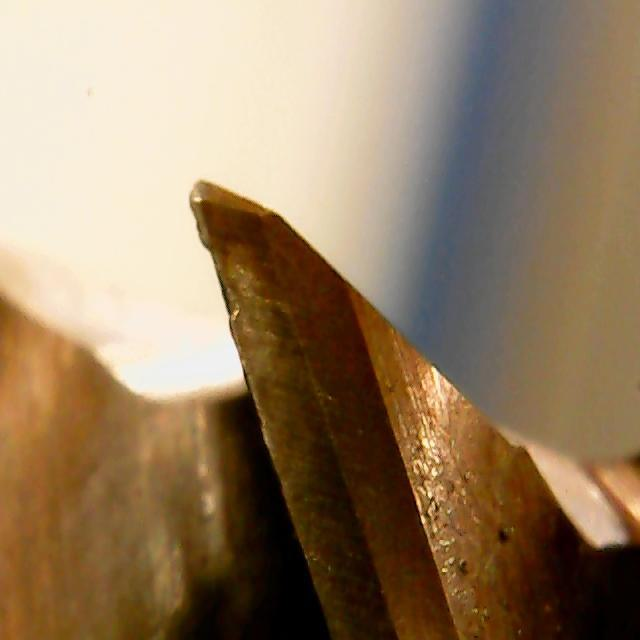Tool-wear-class-1: (174, 175, 356, 458)
